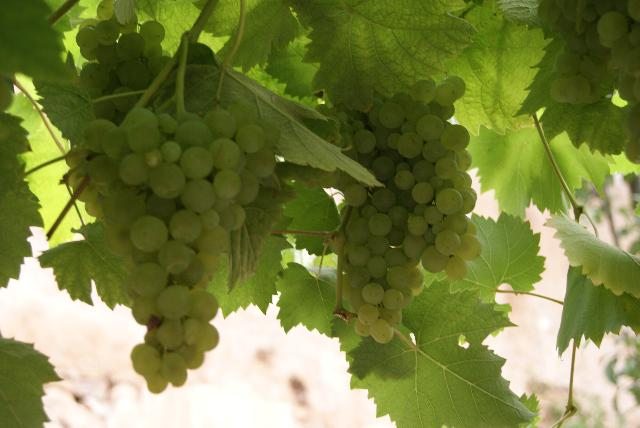grapes: (76, 101, 279, 392), (372, 80, 481, 280), (342, 96, 424, 341)
